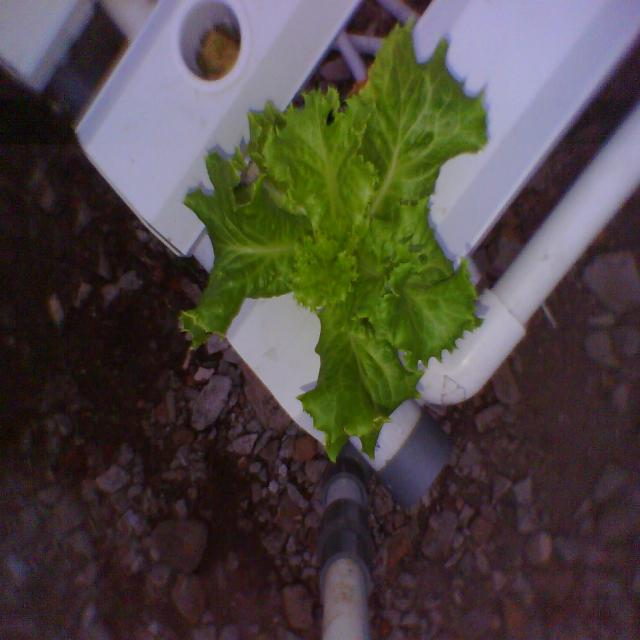FN: (170, 1, 505, 478)
